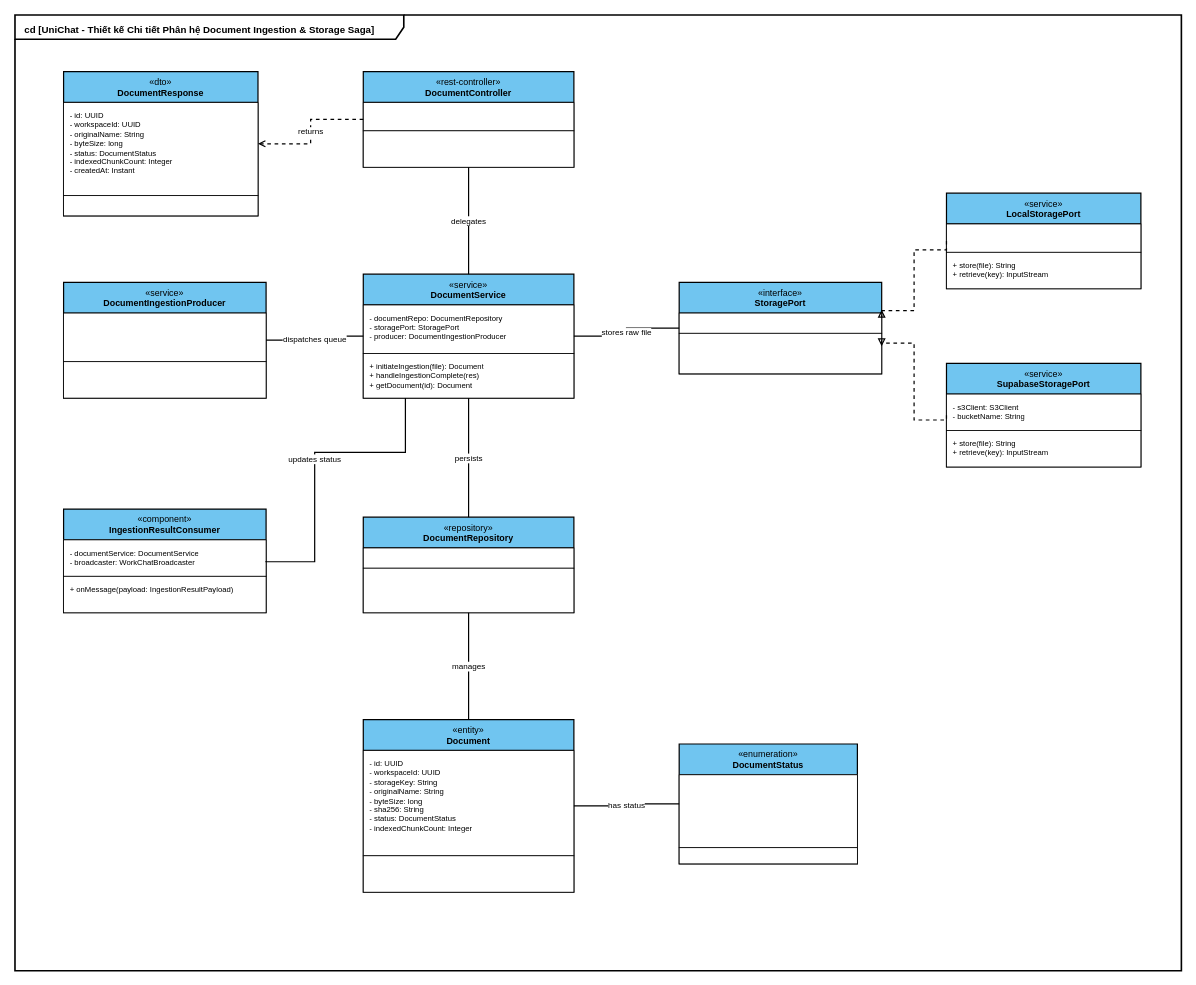
This 1196x985 diagram has some shape labels left out. The shapes that lost their labels are listed below. From the top down, each one's centre as x and y in pixels, then its label:
At [468,116]: "- documentService: DocumentService".
At [468,148]: "+ uploadDocument(file): DocumentResponse + getDocument(id): DocumentResponse".
At [1043,237]: "- baseDirectory: Path".
At [164,337]: "- rabbitTemplate: RabbitTemplate - exchangeName: String - routingKey: String".
At [780,353]: "+ store(file: MultipartFile): String + retrieve(storageKey: String): InputStream".
At [164,379]: "+ sendIngestionTask(task: IngestionTaskPayload)".
At [468,590]: "+ save(doc): Document + findById(id): Optional + findByWorkspaceId(wsId): List".
At [767,811]: "PENDING_INGESTION PROCESSING PROCESSED FAILED DELETING".
At [468,873]: "+ markProcessed(chunks) + markFailed(reason)".
